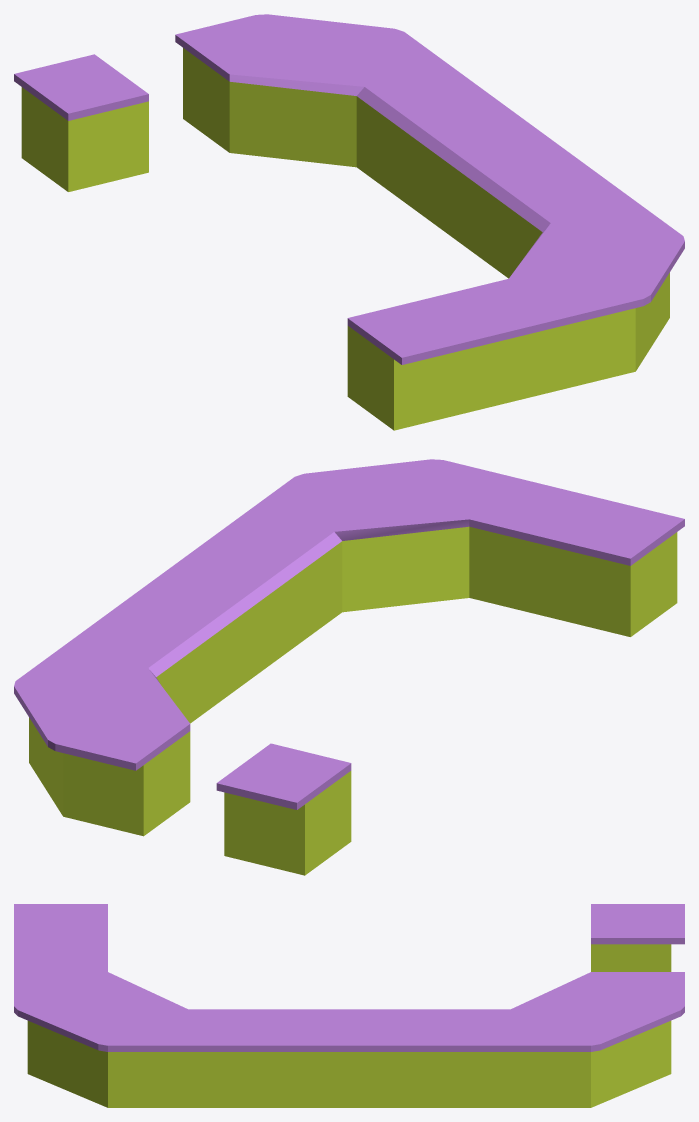
Rendered from DeskModel.fbx.
3 views of the same model, one above another, from view 1: azimuth 30°, elevation 25°; view 2: azimuth 150°, elevation 25°; view 3: azimuth 270°, elevation 25° (orthographic). The views are drawn at different scales.
Visible parts, largest first — view 1: Plane.001; view 2: Plane.001; view 3: Plane.001.
Boxes of the visible parts, <box> form: Plane.001: <box>14,14,684,430</box>; Plane.001: <box>14,459,684,875</box>; Plane.001: <box>14,904,684,1107</box>.
Size of the model in its own units: 492 by 110 by 985.
